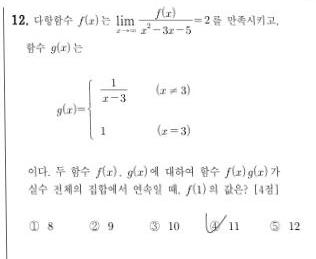choice: (203, 215, 222, 233)
not-choice: (147, 219, 162, 233), (268, 219, 282, 233), (87, 219, 100, 233), (27, 219, 40, 232)
